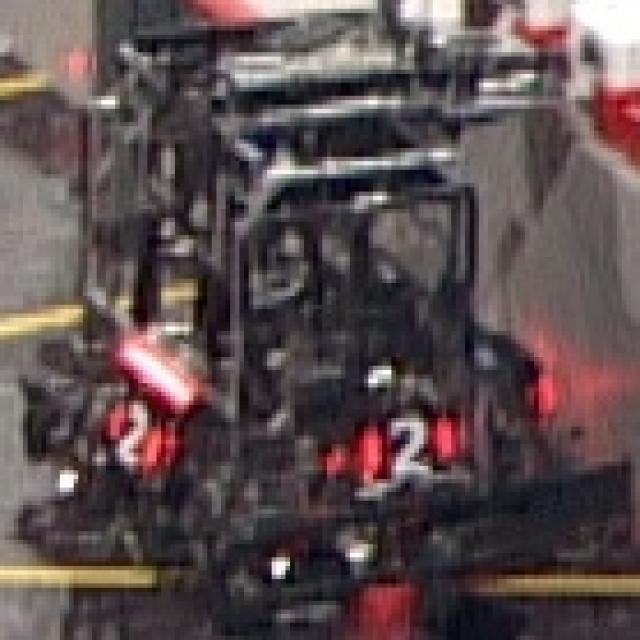R2: (354, 403, 460, 485), (99, 392, 173, 479)
